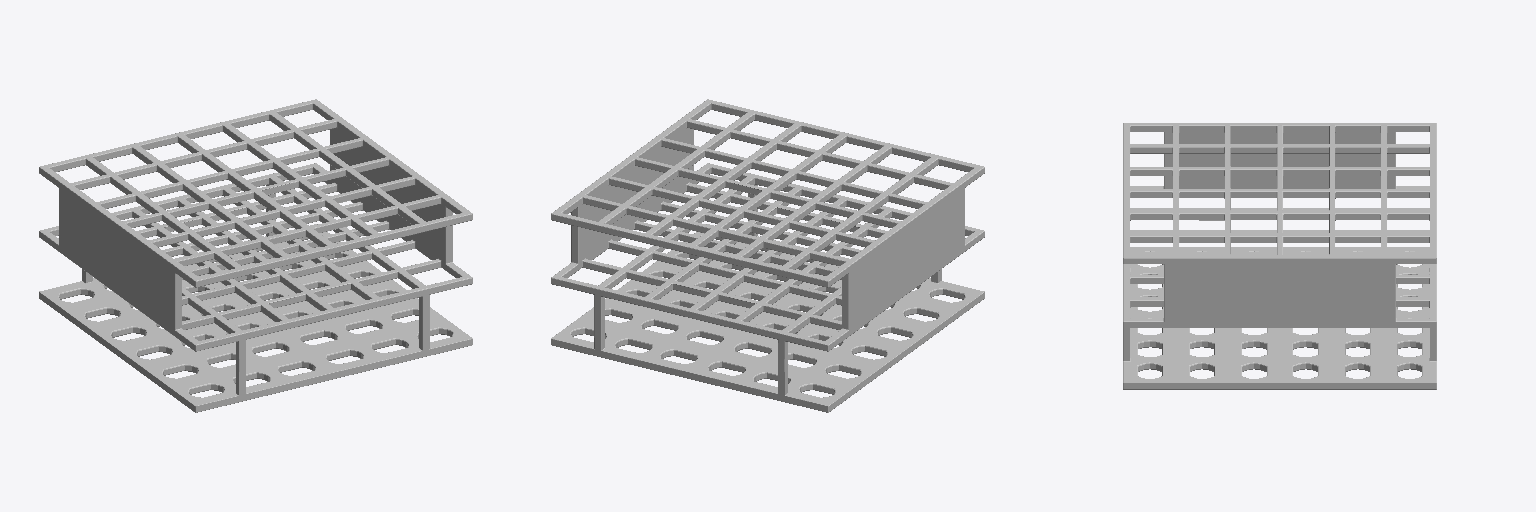
Rendered from khalilAndersdon_tray.002.obj.
The picture shows the model from 3 angles: view 1: azimuth 30°, elevation 25°; view 2: azimuth 150°, elevation 25°; view 3: azimuth 270°, elevation 25°; orthographic projection.
Parts seen in each view (by area): view 1: GEO_rack; view 2: GEO_rack; view 3: GEO_rack.
Boxes of the visible parts, box(x1,y1,x2,y2) form: GEO_rack: box(39, 99, 472, 412); GEO_rack: box(551, 99, 984, 412); GEO_rack: box(1123, 123, 1436, 389).
Bounding box in the file's own units: 5.44 × 2.47 × 5.31.